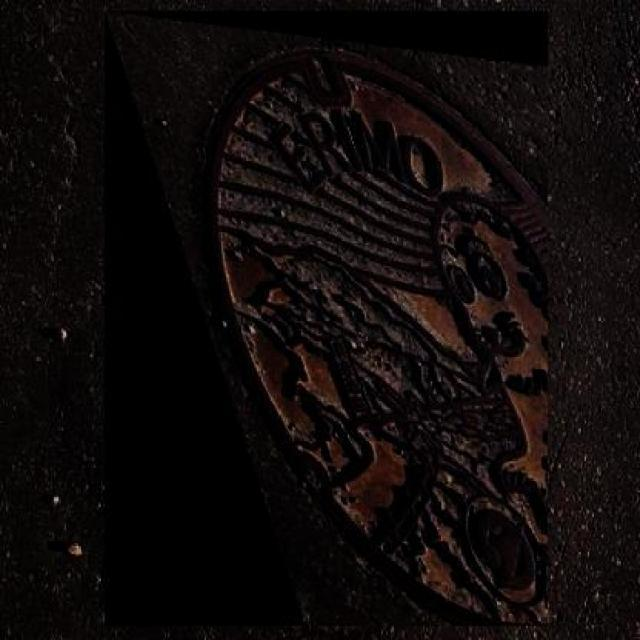Manhole: (105, 11, 548, 626)
